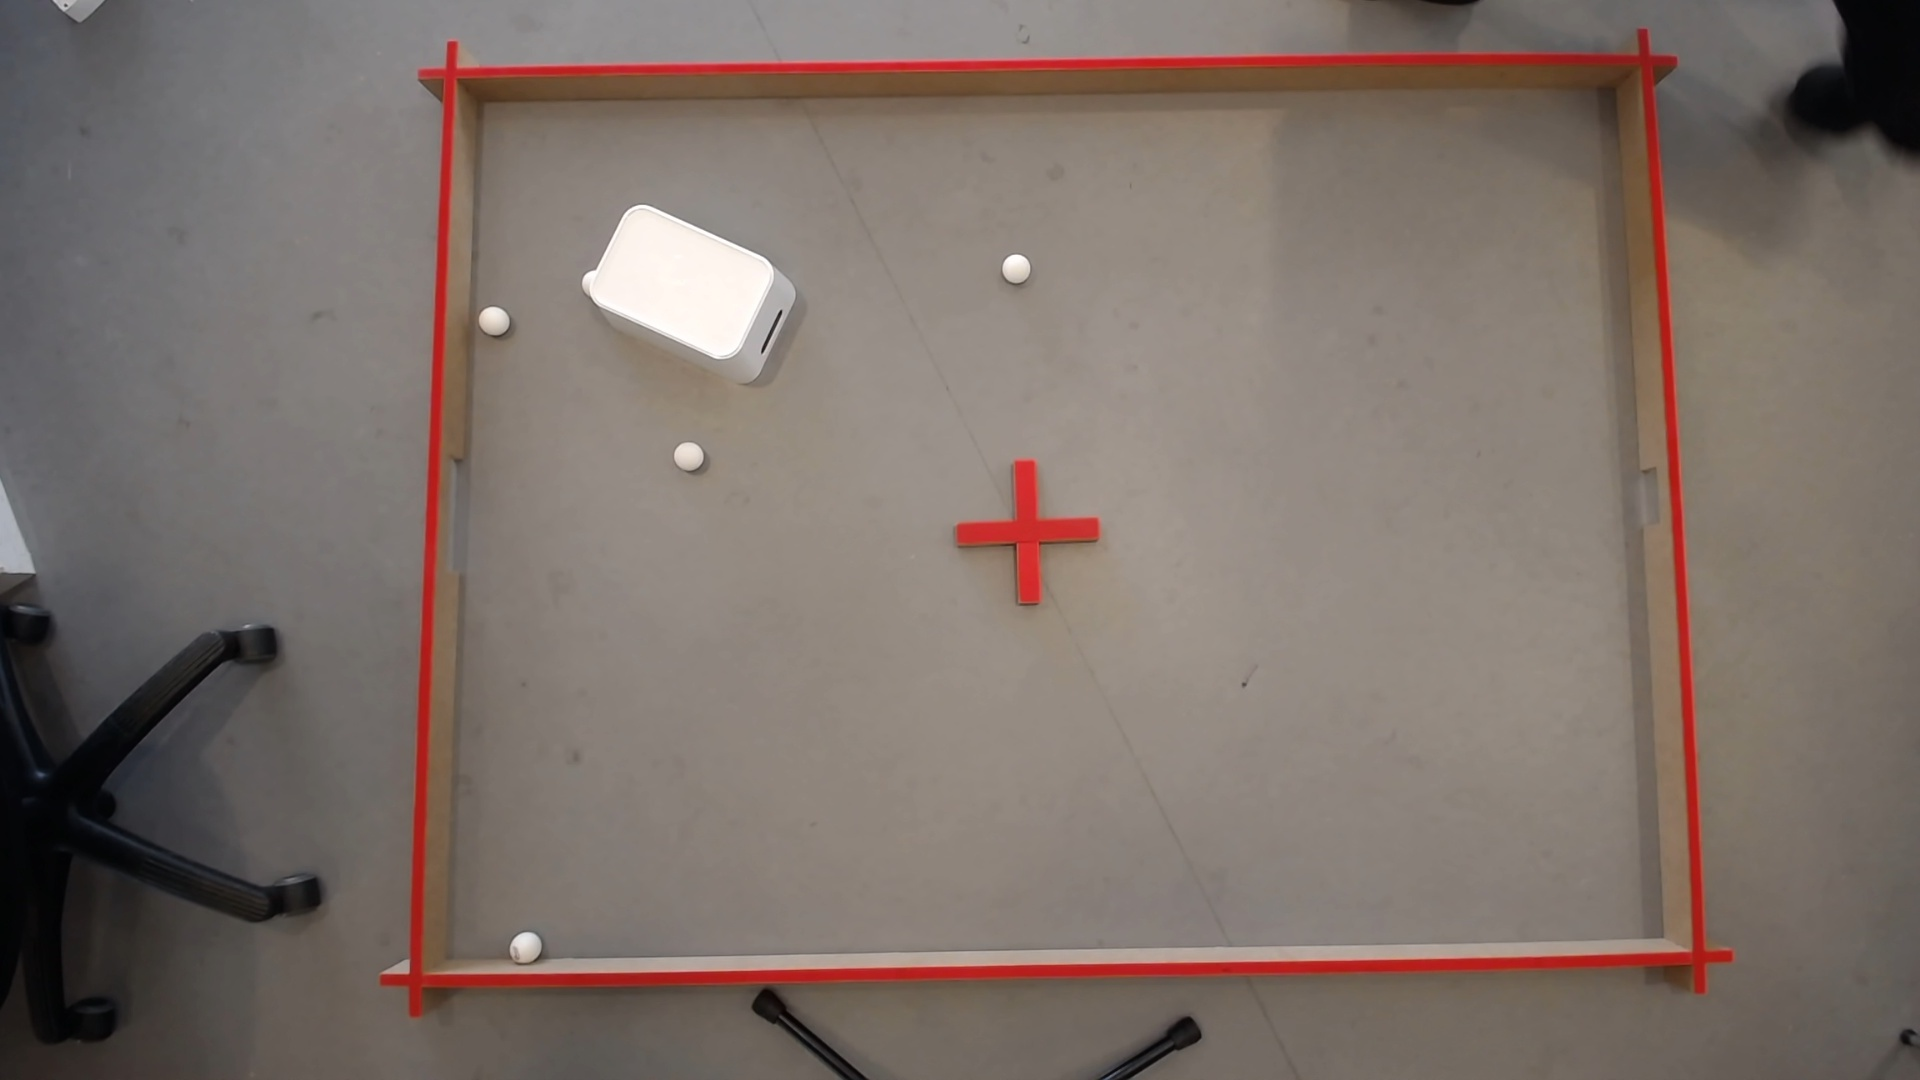balls: (575, 191, 781, 367), (997, 248, 1031, 280), (509, 926, 541, 957), (671, 438, 704, 468)
car: (477, 301, 506, 328)
